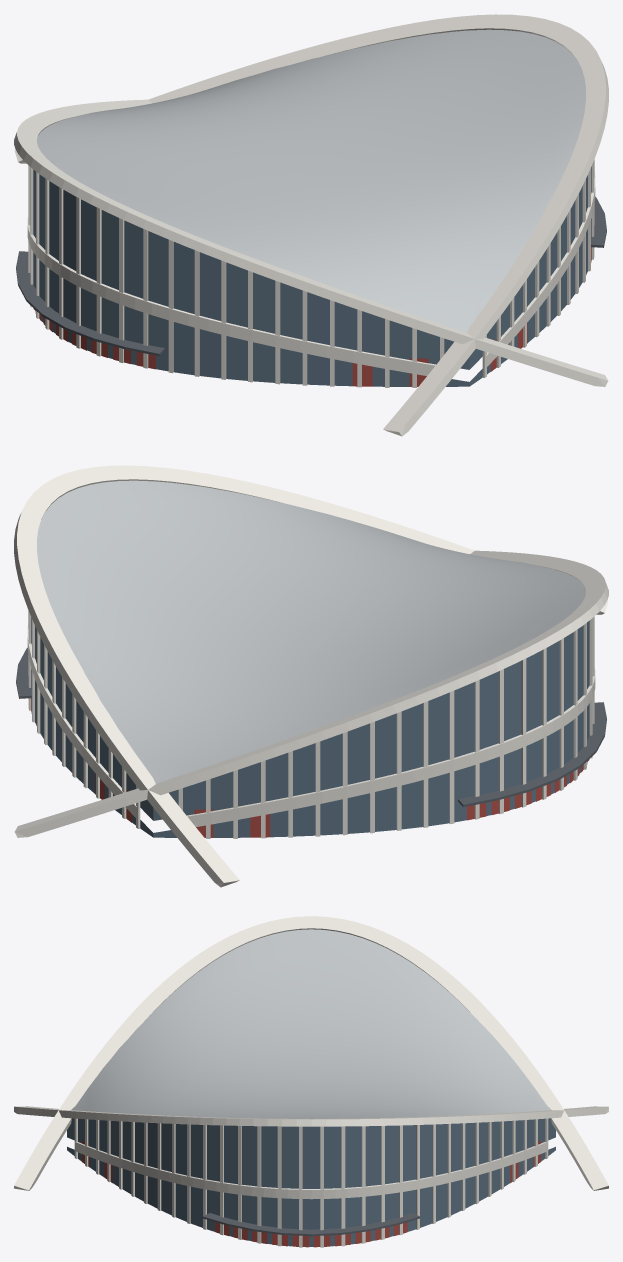
The model's file is ral-dorton-arena.glb.
3 renders of one model, top to bottom at view 1: azimuth 30°, elevation 25°; view 2: azimuth 150°, elevation 25°; view 3: azimuth 270°, elevation 25°, orthographic. The views are drawn at different scales.
Parts seen in each view (by area): view 1: J. S. Dorton Arena; view 2: J. S. Dorton Arena; view 3: J. S. Dorton Arena.
Boxes of the visible parts, bbox=[...] form: J. S. Dorton Arena: bbox=[14, 14, 608, 436]; J. S. Dorton Arena: bbox=[14, 465, 608, 887]; J. S. Dorton Arena: bbox=[14, 916, 608, 1247].
Bounding box in the file's own units: 95.49 × 28.67 × 117.
